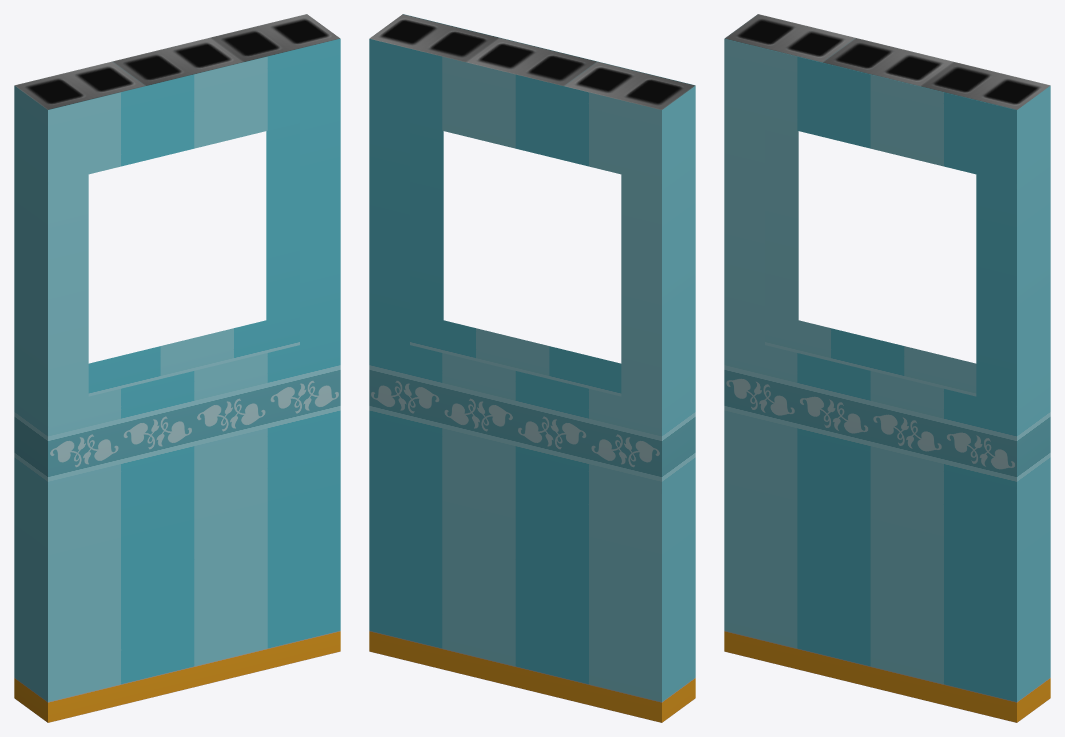
Rendered from wallwindow.FBX.
3 renders of one model, left to right at view 1: azimuth 30°, elevation 25°; view 2: azimuth 150°, elevation 25°; view 3: azimuth 330°, elevation 25°, orthographic.
Parts seen in each view (by area): view 1: wallwindow; view 2: wallwindow; view 3: wallwindow.
Boxes of the visible parts, x1,y1,x2,y2 form: wallwindow: [14, 14, 340, 722]; wallwindow: [369, 14, 695, 722]; wallwindow: [724, 14, 1050, 722].
Bounding box in the file's own units: 0.0254 × 0.00508 × 0.0508.
